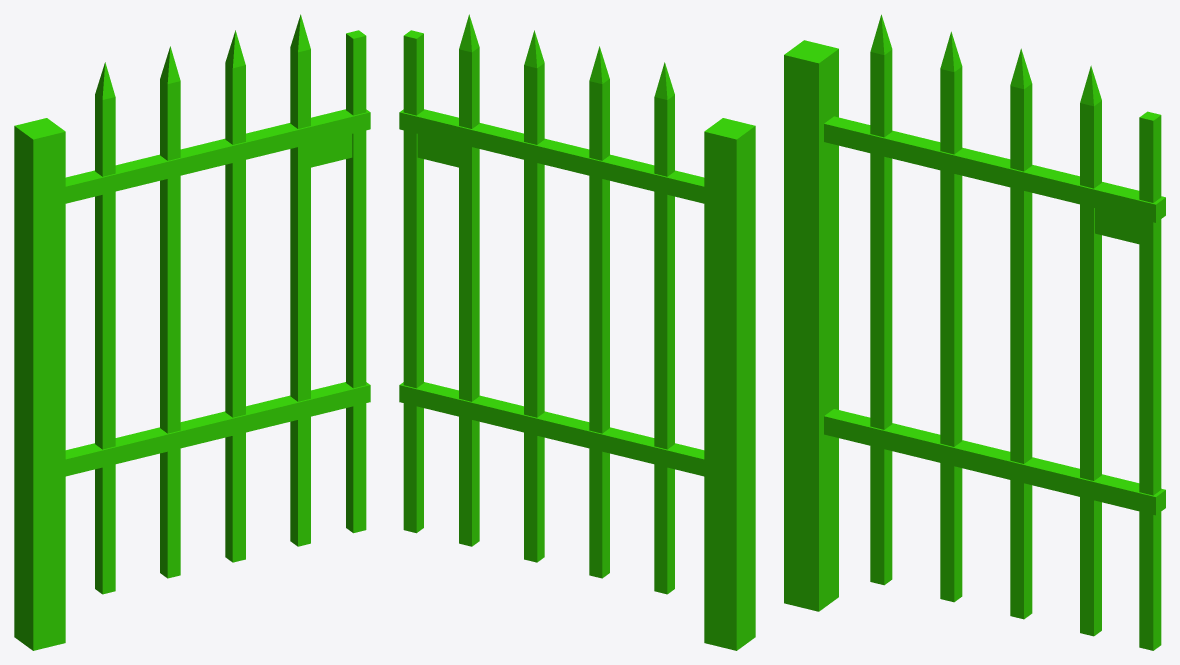
Rendered from fence2_double_gate.fbx.
3 renders of one model, left to right at view 1: azimuth 30°, elevation 25°; view 2: azimuth 150°, elevation 25°; view 3: azimuth 330°, elevation 25°, orthographic. The views are drawn at different scales.
Parts seen in each view (by area): view 1: fence2_double_gate, fence2_double_gate_support; view 2: fence2_double_gate, fence2_double_gate_support; view 3: fence2_double_gate, fence2_double_gate_support.
Boxes of the visible parts, x1,y1,x2,y2 form: fence2_double_gate: [65, 14, 370, 594]; fence2_double_gate_support: [14, 118, 65, 650]; fence2_double_gate: [399, 14, 704, 594]; fence2_double_gate_support: [704, 118, 755, 650]; fence2_double_gate: [824, 14, 1165, 650]; fence2_double_gate_support: [784, 40, 838, 611].
Bounding box in the file's own units: 105 × 165 × 10.
